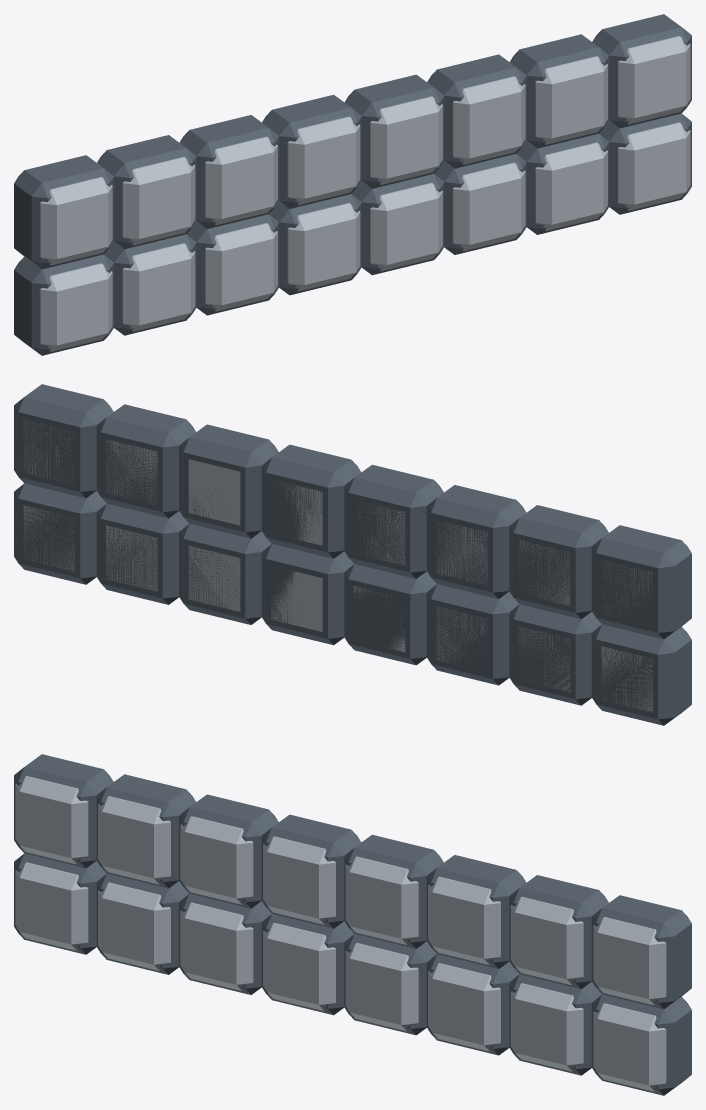
The model's file is Terrain_Block8x2.gltf.
The picture shows the model from 3 angles, top to bottom: view 1: azimuth 30°, elevation 25°; view 2: azimuth 150°, elevation 25°; view 3: azimuth 330°, elevation 25°; orthographic projection.
Visible parts, largest first — view 1: Terrain_Block8x2_baked; view 2: Terrain_Block8x2_baked; view 3: Terrain_Block8x2_baked.
Part boxes in pixels (x1,y1,x2,y2): Terrain_Block8x2_baked: [14, 14, 691, 355]; Terrain_Block8x2_baked: [14, 384, 691, 725]; Terrain_Block8x2_baked: [14, 754, 691, 1095].
Size of the model in its own units: 8 by 2 by 0.7.
